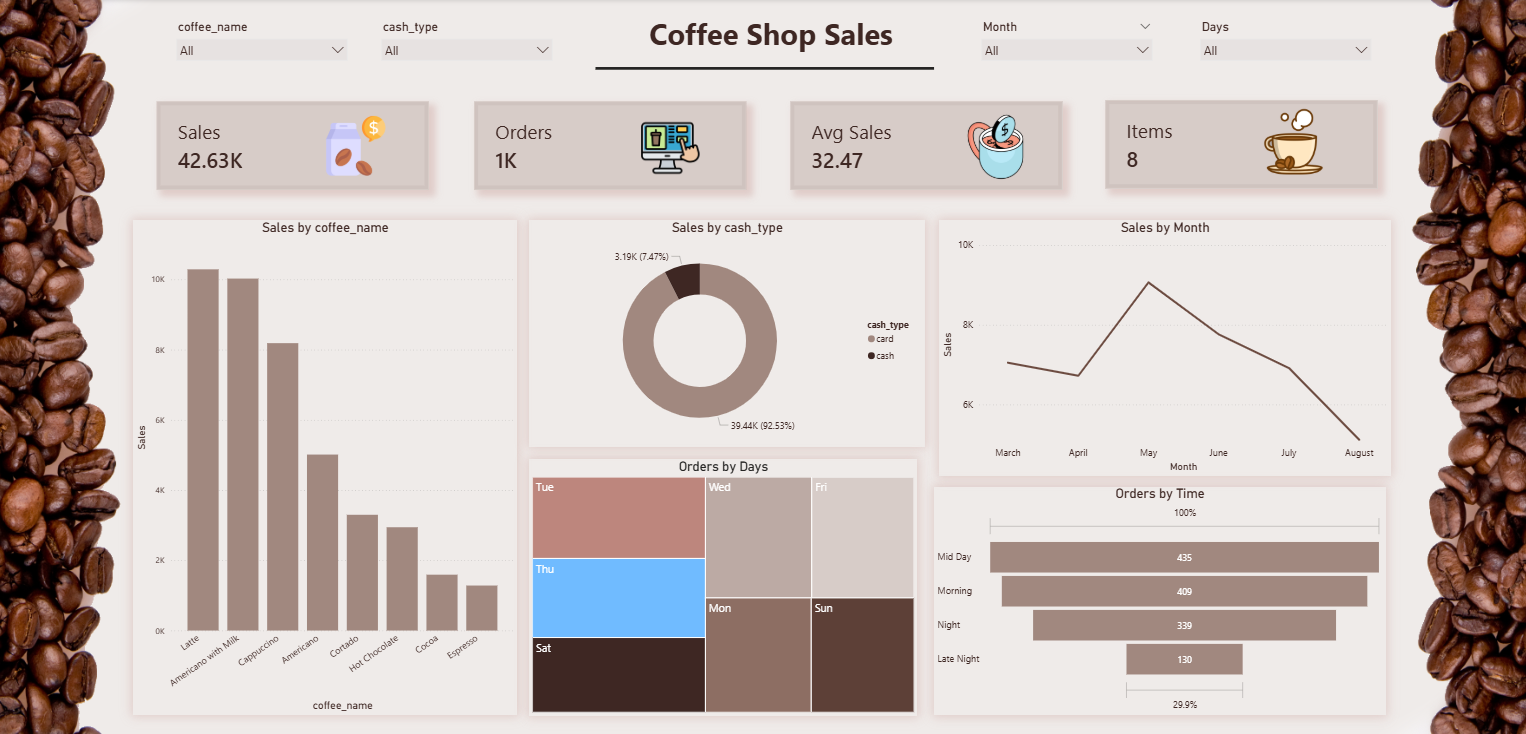

This screenshot's page, from the dashboard's own definition file:
{"tool":"powerbi","page":{"name":"Page 1","canvas":[2250,1080],"ordinal":0},"visuals":[{"type":"image","box":[2023.2,0,227.4,1080.4],"z":0},{"type":"image","box":[5.5,0,253.1,1080.4],"z":1000},{"type":"textbox","box":[231.1,16,1821.4,86.2],"z":2000},{"type":"shape","box":[884.1,75.2,497.1,53.2],"z":3000},{"type":"slicer","fields":{"Values":["index.cash_type"]},"box":[559.4,25.7,271.5,77],"z":4000},{"type":"slicer","fields":{"Values":["index.Days"]},"box":[1760.9,25.7,271.5,78.9],"z":5000},{"type":"slicer","fields":{"Values":["index.coffee_name"]},"box":[258.6,25.7,271.5,77],"z":6000},{"type":"slicer","fields":{"Values":["index.date.Variation.Date Hierarchy.Month"]},"box":[1439.9,25.7,271.5,78.9],"z":7000},{"type":"cardVisual","fields":{"Data":["index.Orders"]},"box":[705.3,149.6,399.1,130],"z":8000},{"type":"cardVisual","fields":{"Data":["index.Sales"]},"box":[240.3,149.6,399.1,130],"z":9000},{"type":"cardVisual","fields":{"Data":["index.Items"]},"box":[1633.3,149.1,399.1,130],"z":10000},{"type":"image","box":[938.5,173.7,109.5,89.1],"z":11000},{"type":"image","box":[426.1,166.3,213.5,96.5],"z":12000},{"type":"image","box":[1818.4,149.6,180.1,122.5],"z":13000},{"type":"cardVisual","fields":{"Data":["index.Avg Sales"]},"box":[1170.3,149.6,399.1,130],"z":14000},{"type":"image","box":[1391.5,166.3,157.8,100.2],"z":15000},{"type":"clusteredColumnChart","fields":{"Category":["index.coffee_name"],"Y":["index.Sales"]},"box":[206.1,324.9,564.4,725.9],"z":16000},{"type":"donutChart","fields":{"Category":["index.cash_type"],"Y":["index.Sales"]},"box":[787.1,324.9,581.1,332.3],"z":17000},{"type":"lineChart","fields":{"Category":["index.date.Variation.Date Hierarchy.Month"],"Y":["index.Sales"]},"box":[1388.6,324.9,662.7,375],"z":18000},{"type":"treemap","fields":{"Group":["index.Days"],"Values":["index.Orders"]},"box":[787.1,675.7,569.9,376.9],"z":19000},{"type":"funnel","fields":{"Category":["index.Time"],"Y":["index.Orders"]},"box":[1381.2,714.7,662.7,336],"z":20000}]}

Visuals, with their boxes in screenshot pixels (x1, y1, x2, y2), scaled from the page's 2250x1080 canvas onto the 1526x734 screenshot:
image: [1372, 0, 1525, 733]
image: [4, 0, 175, 733]
textbox: [157, 11, 1392, 69]
shape: [600, 51, 937, 87]
slicer - index.cash_type: [379, 17, 564, 70]
slicer - index.Days: [1194, 17, 1378, 71]
slicer - index.coffee_name: [175, 17, 360, 70]
slicer - index.date.Variation.Date Hierarchy.Month: [977, 17, 1161, 71]
cardVisual - index.Orders: [478, 102, 749, 190]
cardVisual - index.Sales: [163, 102, 434, 190]
cardVisual - index.Items: [1108, 101, 1378, 190]
image: [637, 118, 711, 179]
image: [289, 113, 434, 179]
image: [1233, 102, 1355, 185]
cardVisual - index.Avg Sales: [794, 102, 1064, 190]
image: [944, 113, 1051, 181]
clusteredColumnChart - index.coffee_name x index.Sales: [140, 221, 523, 714]
donutChart - index.cash_type x index.Sales: [534, 221, 928, 447]
lineChart - index.date.Variation.Date Hierarchy.Month x index.Sales: [942, 221, 1391, 476]
treemap - index.Days x index.Orders: [534, 459, 920, 715]
funnel - index.Time x index.Orders: [937, 486, 1386, 714]
